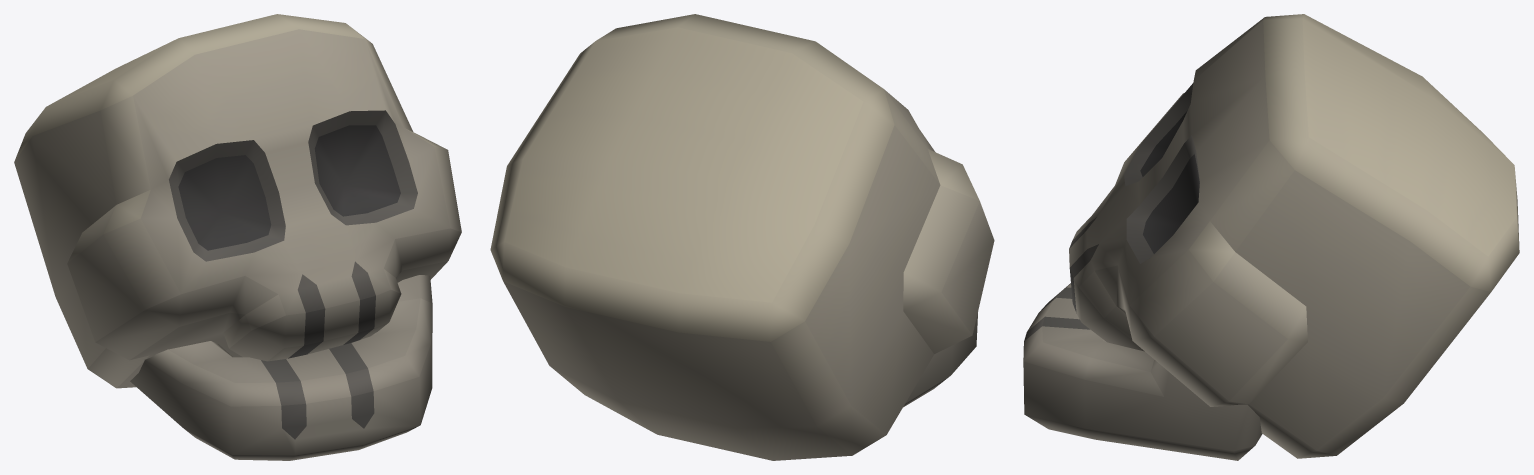
Rendered from deco_skull_2.fbx.
3 views of the same model, side by side, from view 1: azimuth 30°, elevation 25°; view 2: azimuth 150°, elevation 25°; view 3: azimuth 270°, elevation 25° (orthographic). The views are drawn at different scales.
Parts seen in each view (by area): view 1: deco_skull_2; view 2: deco_skull_2; view 3: deco_skull_2.
Boxes of the visible parts, x1,y1,x2,y2 form: deco_skull_2: (14, 14, 461, 460); deco_skull_2: (490, 14, 994, 460); deco_skull_2: (1023, 14, 1519, 460).
Bounding box in the file's own units: 49.11 × 46.73 × 56.91.
